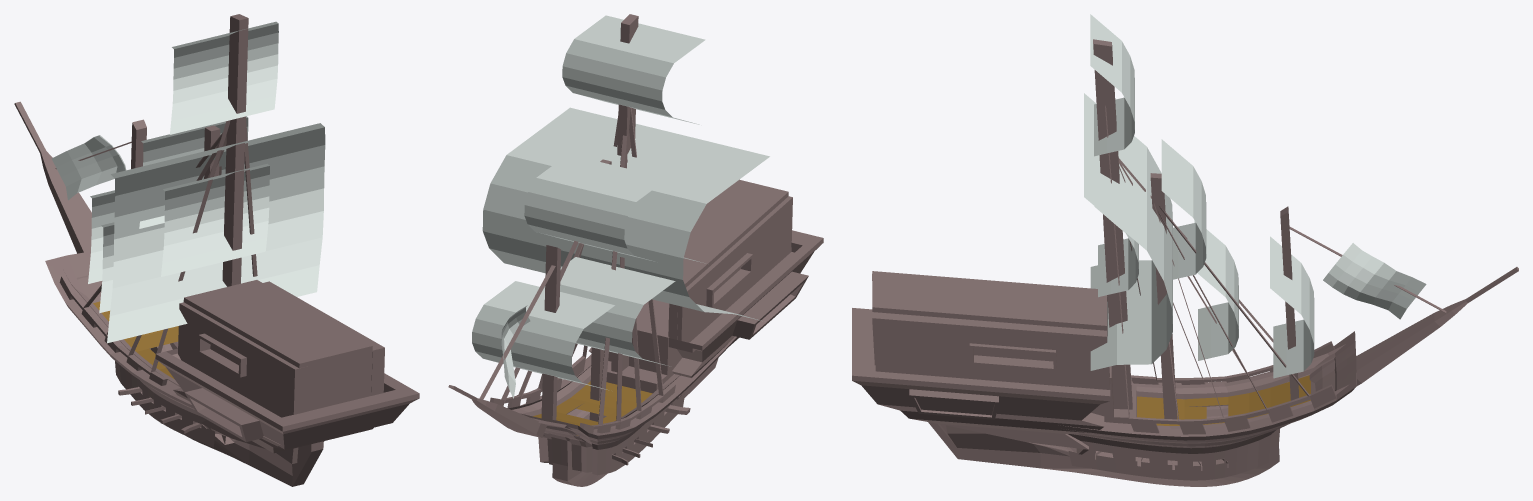
The model's file is ship.glb.
The picture shows the model from 3 angles, left to right: view 1: azimuth 30°, elevation 25°; view 2: azimuth 150°, elevation 25°; view 3: azimuth 270°, elevation 25°; orthographic projection. The views are drawn at different scales.
Parts seen in each view (by area): view 1: Cube; view 2: Cube; view 3: Cube.
Boxes of the visible parts, x1,y1,x2,y2 form: Cube: (14, 14, 419, 486); Cube: (448, 14, 823, 486); Cube: (852, 14, 1518, 486).
Bounding box in the file's own units: 45.5 × 74.35 × 100.
